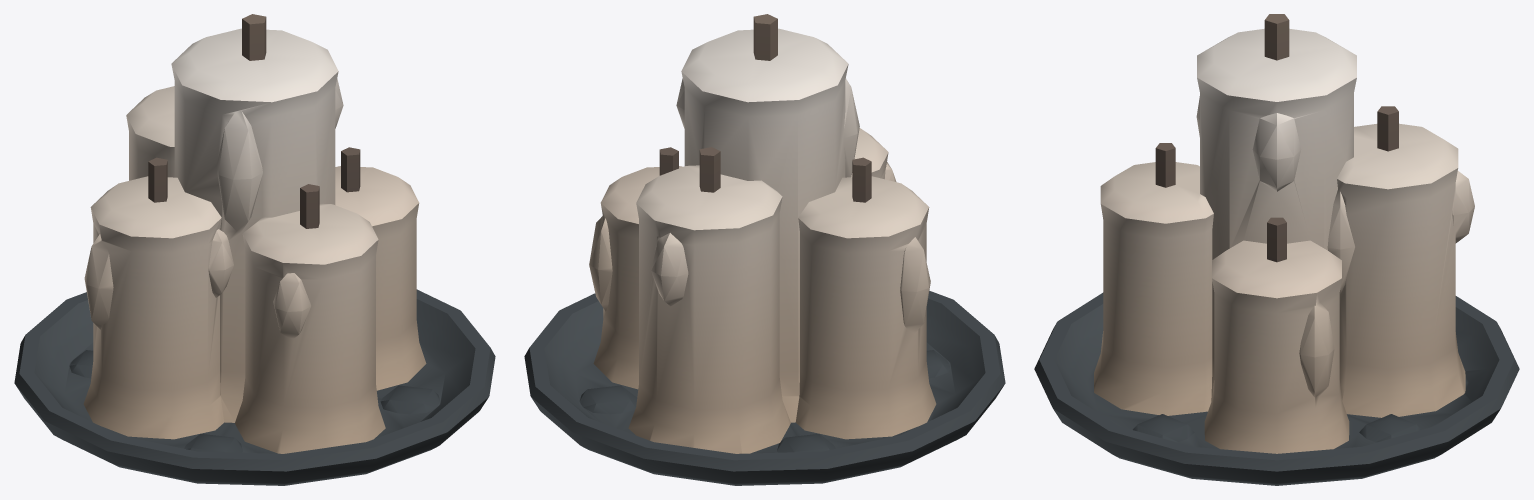
The model's file is candle_plate.glb.
3 renders of one model, left to right at view 1: azimuth 30°, elevation 25°; view 2: azimuth 150°, elevation 25°; view 3: azimuth 270°, elevation 25°, orthographic.
Parts seen in each view (by area): view 1: candle_plate; view 2: candle_plate; view 3: candle_plate.
Part boxes in pixels (x1=…): candle_plate: x1=14, y1=14, x2=495, y2=485; candle_plate: x1=524, y1=14, x2=1005, y2=485; candle_plate: x1=1034, y1=14, x2=1519, y2=485.
Size of the model in its own units: 0.96 by 0.84 by 0.96.
Materials: 1 (1 with a texture image).
